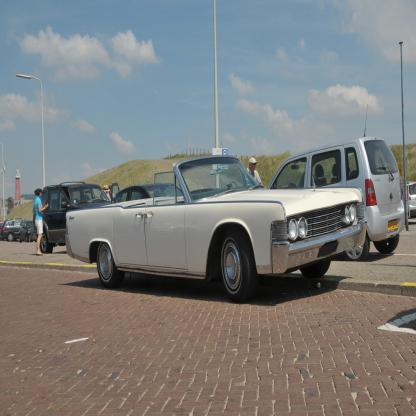Car: (1, 105, 416, 304)
